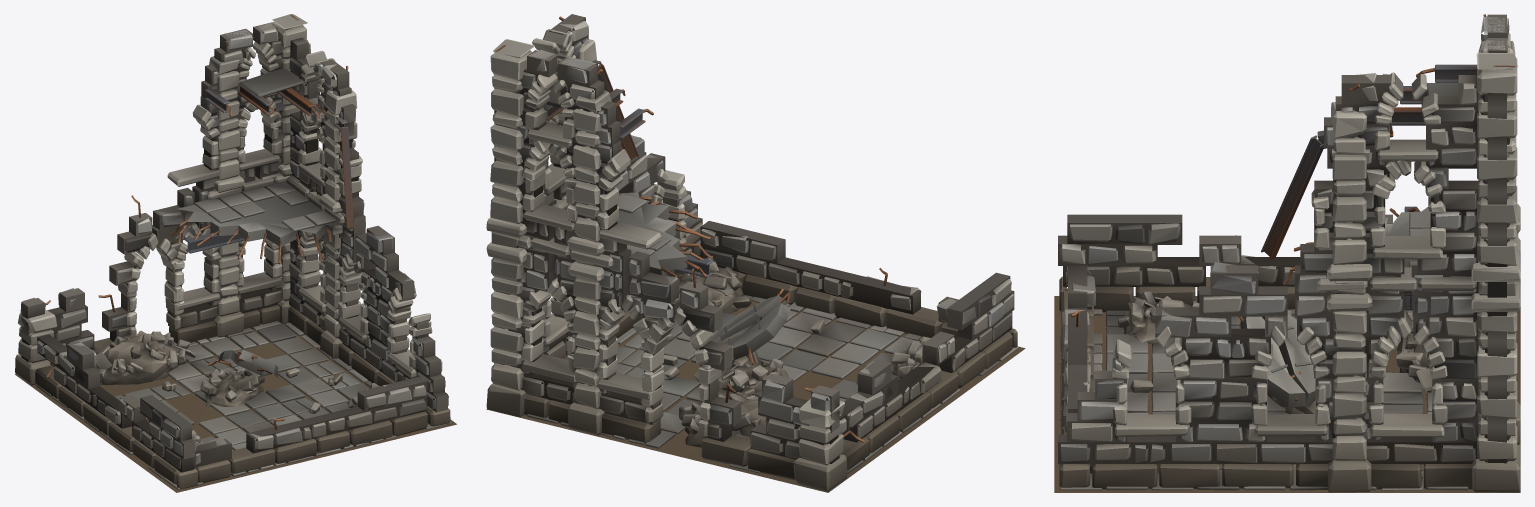
File: ruined-corner.glb
The picture shows the model from 3 angles, left to right: view 1: azimuth 30°, elevation 25°; view 2: azimuth 150°, elevation 25°; view 3: azimuth 270°, elevation 25°; orthographic projection. The views are drawn at different scales.
Parts seen in each view (by area): view 1: ruined-corner; view 2: ruined-corner; view 3: ruined-corner.
Boxes of the visible parts, x1,y1,x2,y2 form: ruined-corner: [15, 14, 456, 492]; ruined-corner: [486, 14, 1025, 492]; ruined-corner: [1054, 14, 1520, 492].
Bounding box in the file's own units: 1 × 1 × 1.
